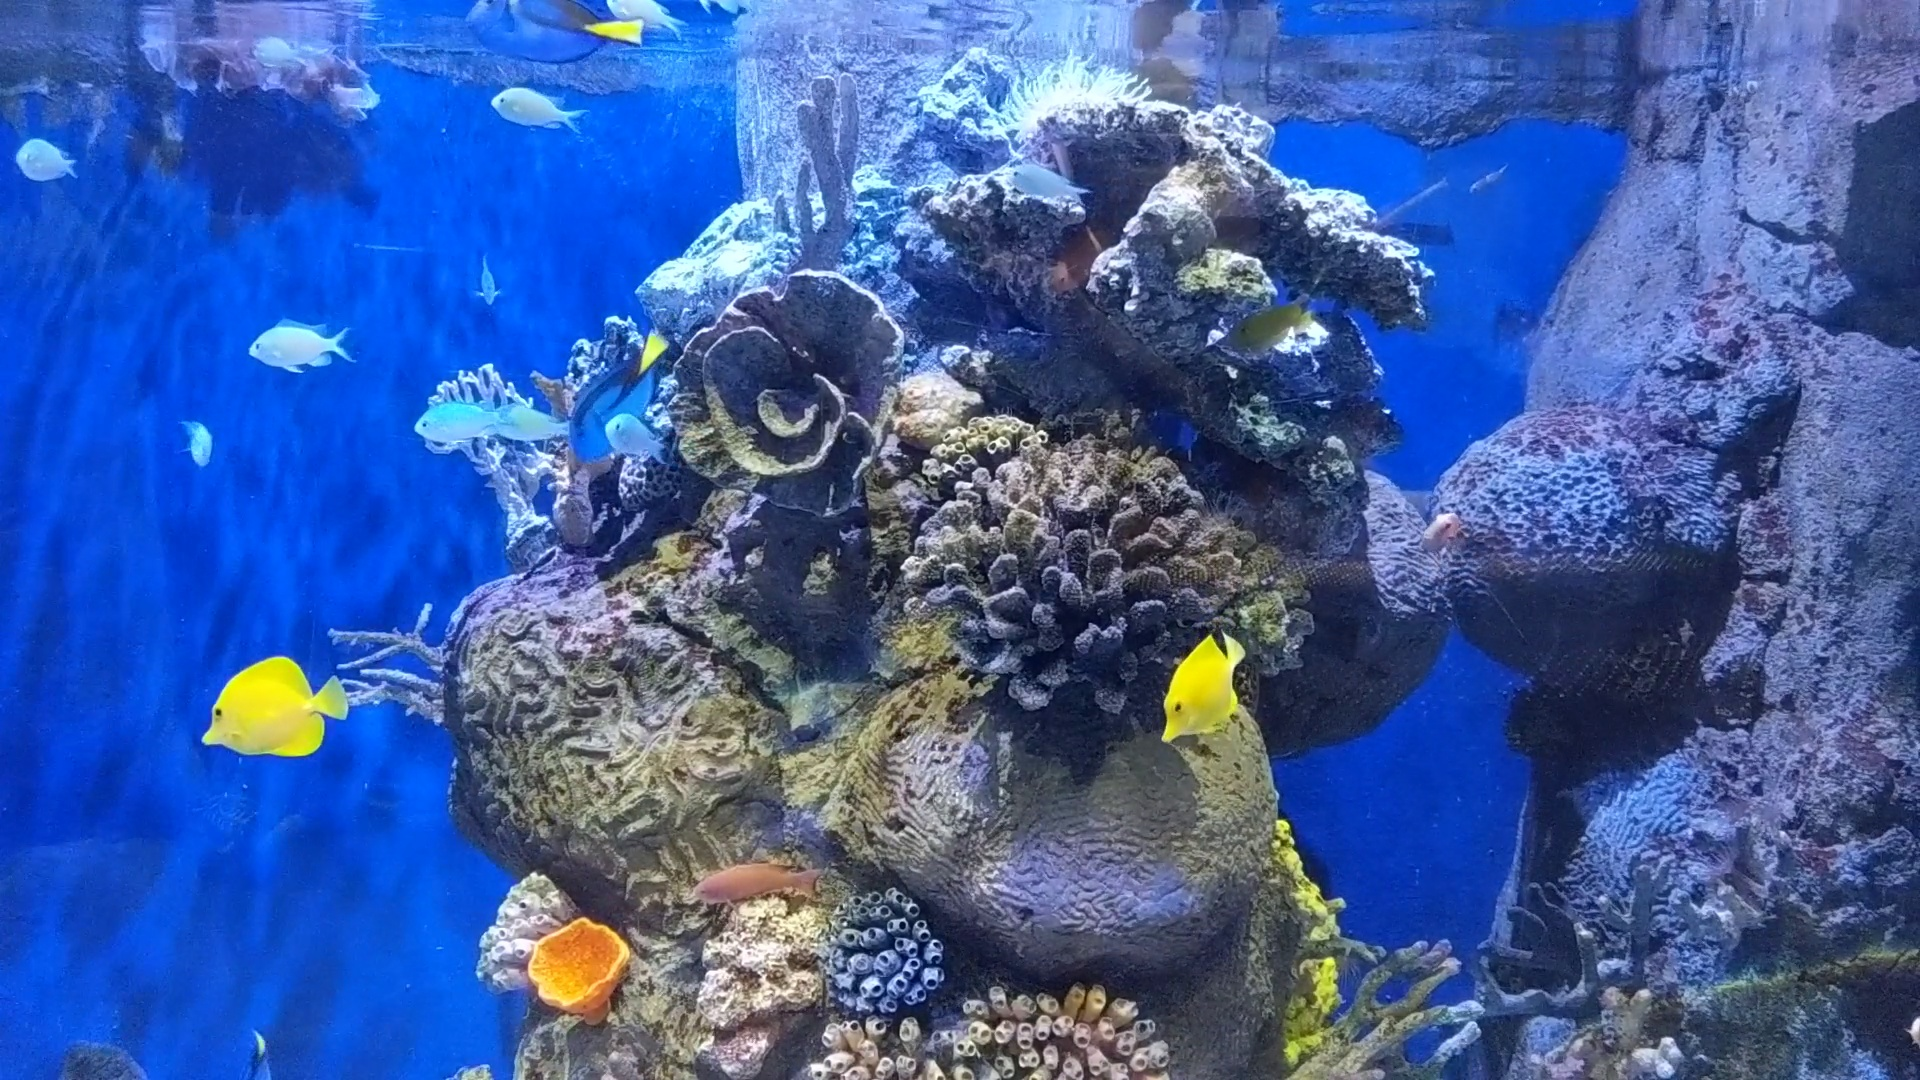blue tang surgeonfish: (564, 328, 682, 464)
damselfish: (472, 80, 589, 149), (400, 386, 514, 450), (251, 316, 352, 386), (603, 411, 684, 480), (7, 129, 98, 189)
pink fish: (1412, 514, 1468, 570)
saddle butterfly fish: (186, 647, 352, 781), (1125, 607, 1262, 750)
